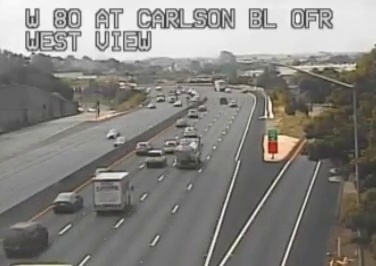car: (3, 223, 47, 255), (53, 192, 82, 211), (146, 150, 166, 165), (135, 142, 151, 154), (163, 140, 177, 153)
small-truck: (92, 171, 129, 212)
tank-truck: (175, 138, 201, 167)
